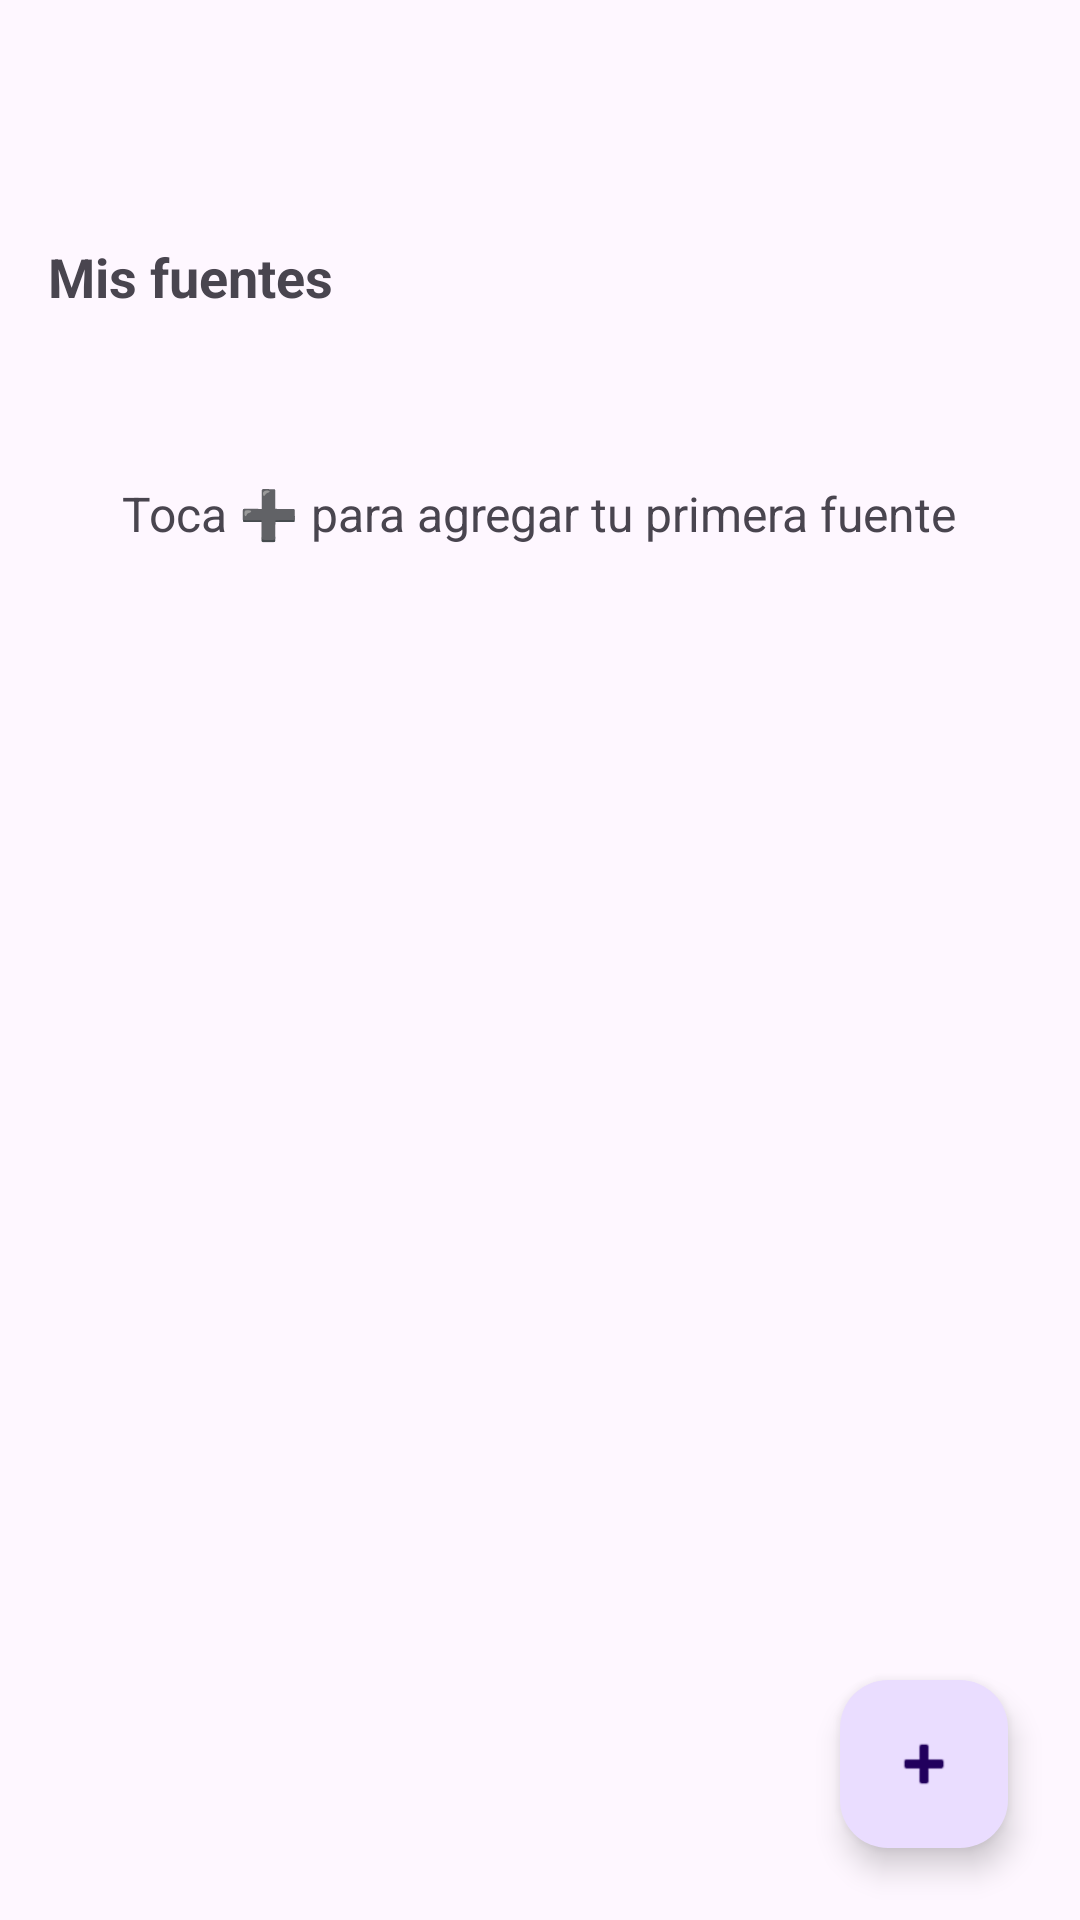

Where to tap for icons on this 1080px×1920px app screen, as [x,y]:
Agregar fuente: [924,1764]
